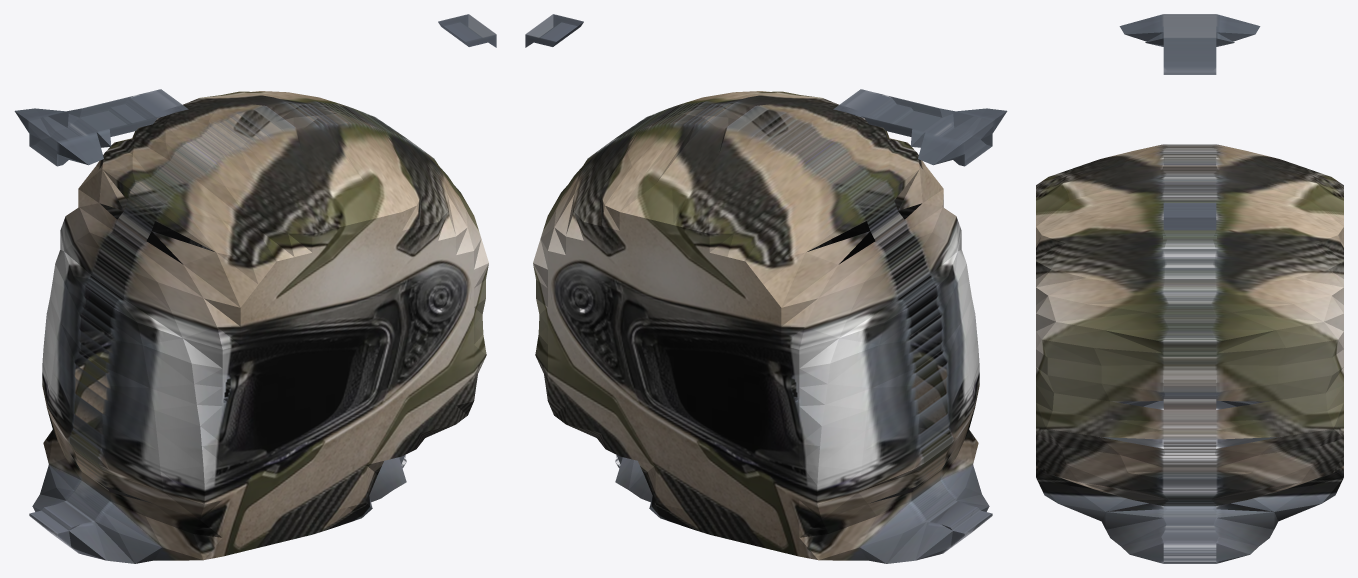
The model's file is shoei-horizon-full-face-helmet-054.glb.
3 views of the same model, side by side, from view 1: azimuth 30°, elevation 25°; view 2: azimuth 150°, elevation 25°; view 3: azimuth 270°, elevation 25° (orthographic). The views are drawn at different scales.
Parts seen in each view (by area): view 1: world; view 2: world; view 3: world.
Part boxes in pixels (left/top/right/bottom): world: left=14, top=14, right=496, bottom=563; world: left=525, top=14, right=1007, bottom=563; world: left=1036, top=14, right=1343, bottom=563.
Size of the model in its own units: 1 by 0.9292 by 0.64.
1 material, 1 textured.
